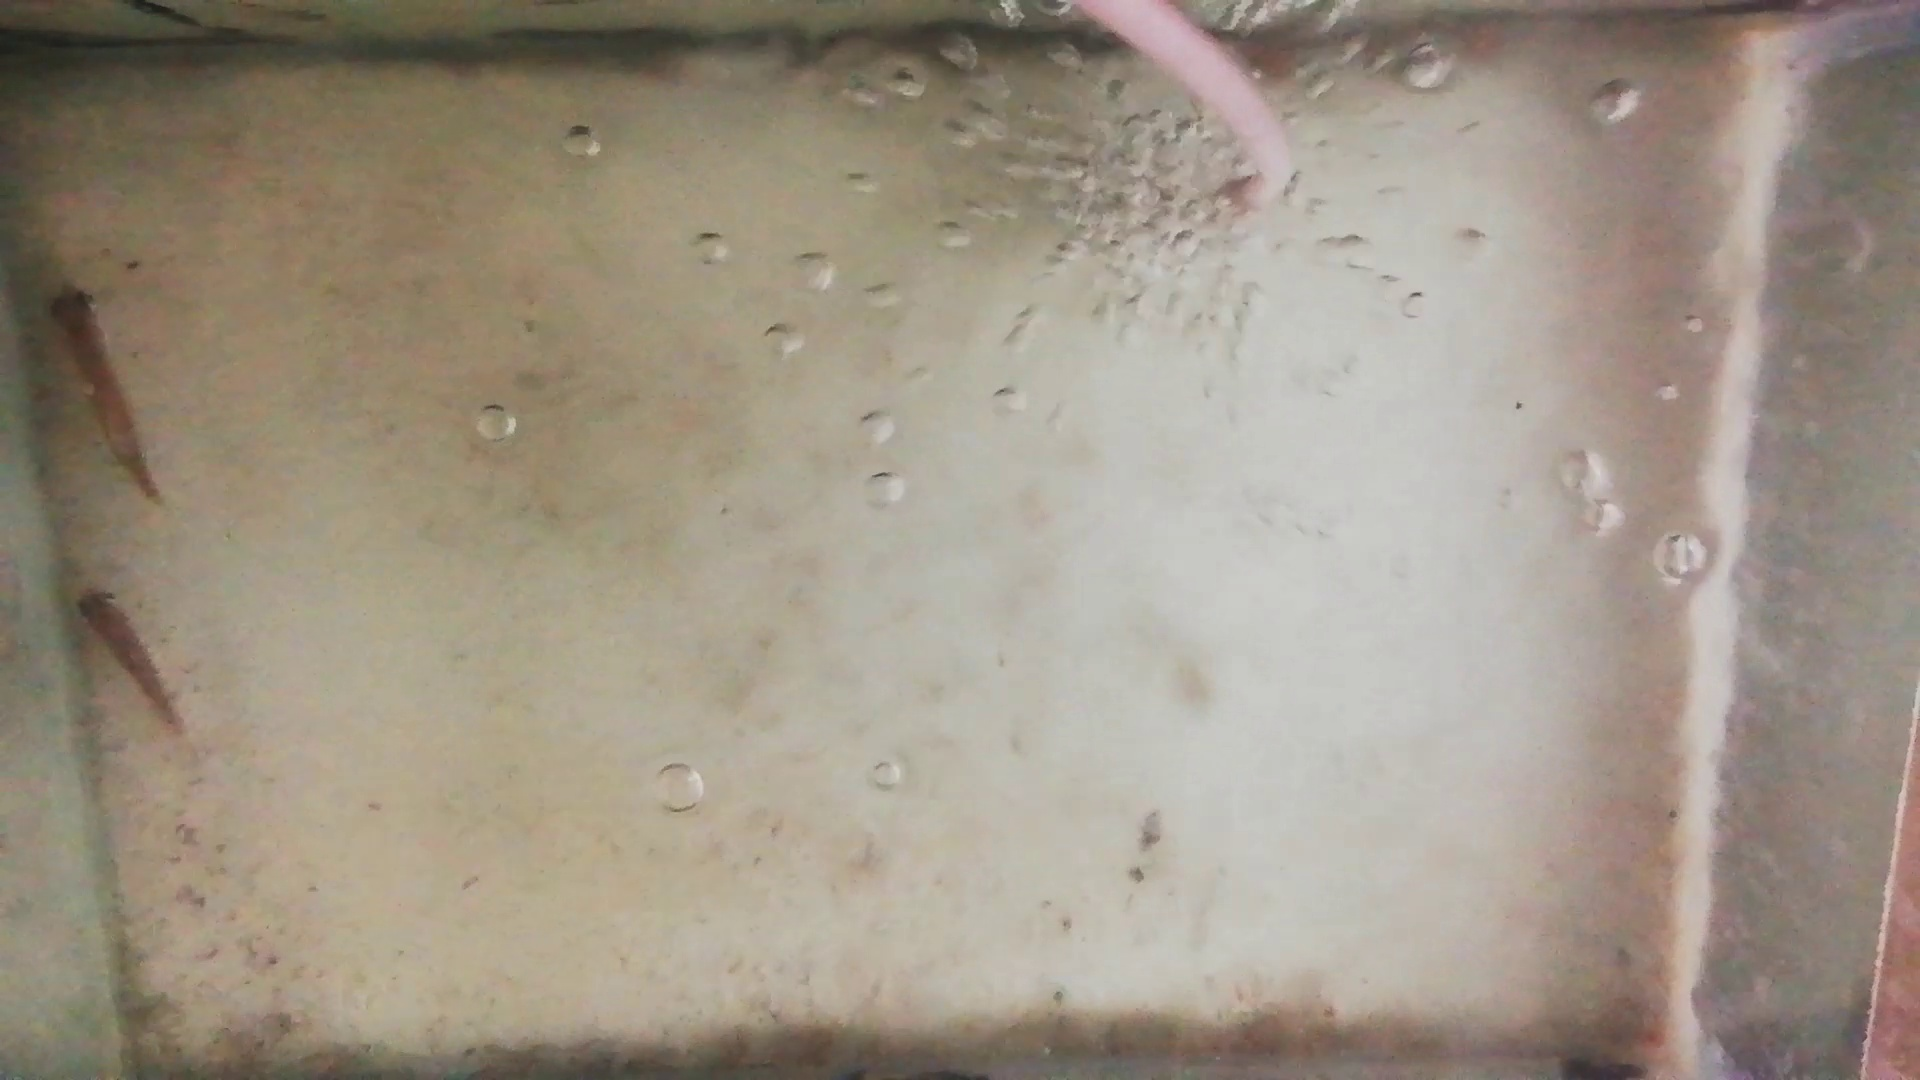fish: (44, 281, 161, 509), (70, 583, 179, 731)
